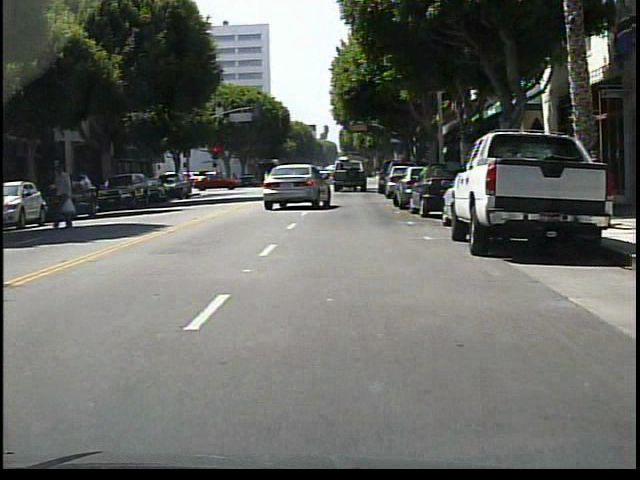person: (54, 162, 77, 233), (291, 168, 302, 191), (311, 167, 319, 191)
